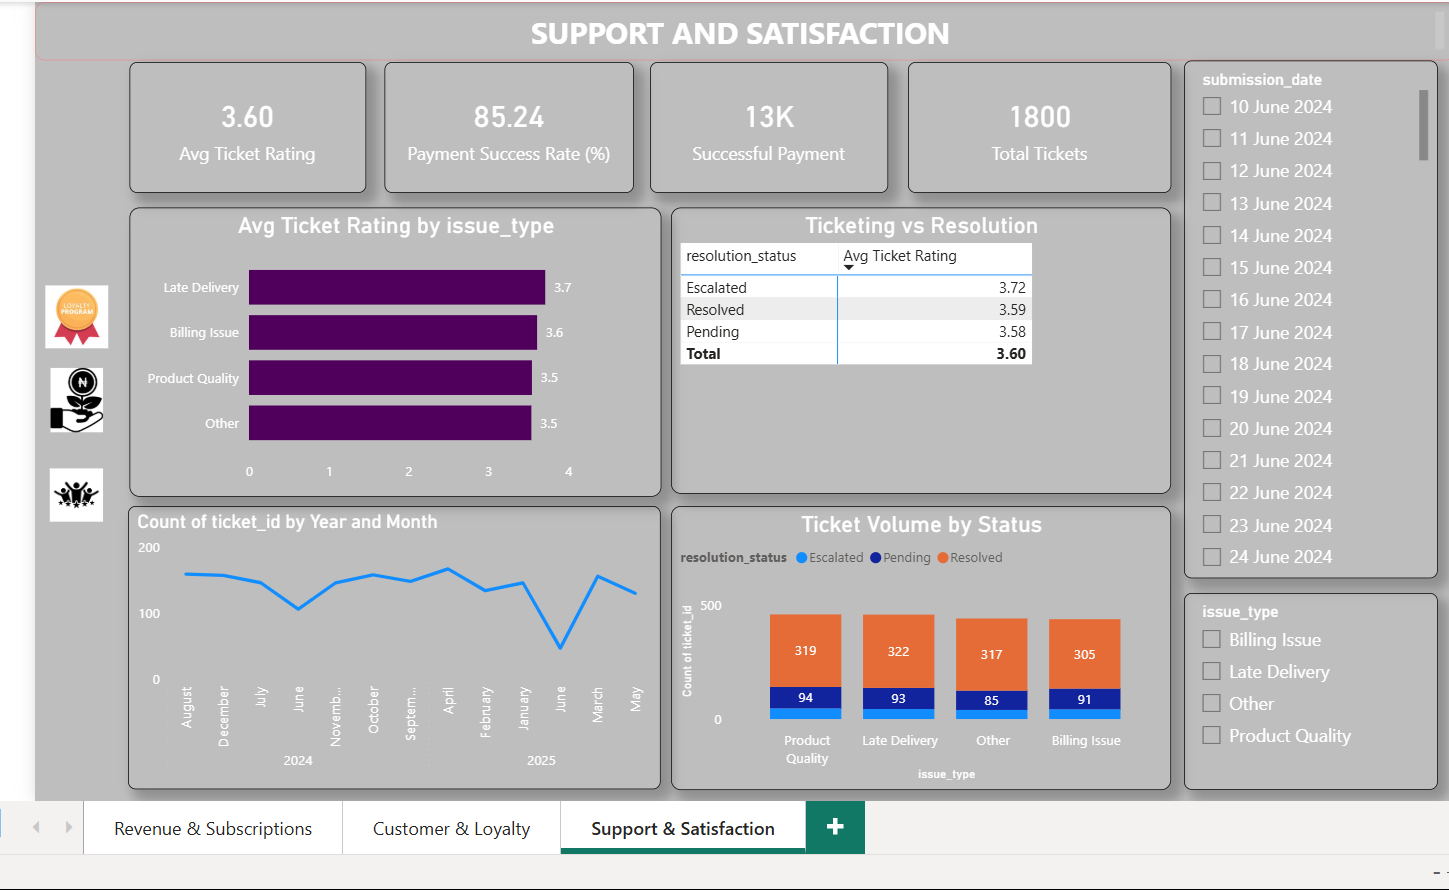

What the dashboard file says about the page in this screenshot:
{"tool":"powerbi","page":{"name":"Support & Satisfaction","canvas":[1280,720],"ordinal":2},"visuals":[{"type":"textbox","box":[0,0,1279.5,53],"z":0},{"type":"pivotTable","title":"Ticketing vs Resolution ","fields":{"Rows":["public support_tickets.resolution_status"],"Values":["public support_tickets.Avg Ticket Rating"]},"box":[573.1,185.8,450.7,257.8],"z":1000},{"type":"card","fields":{"Values":["public support_tickets.Avg Ticket Rating"]},"box":[85,54.7,213.1,118.1],"z":2000},{"type":"card","fields":{"Values":["public support_tickets.Payment Success Rate (%)"]},"box":[315.4,54.7,224.6,118.1],"z":3000},{"type":"card","fields":{"Values":["public support_tickets.Successful Payment"]},"box":[554.4,54.7,214.6,118.1],"z":4000},{"type":"card","fields":{"Values":["public support_tickets.Total Tickets"]},"box":[786.2,54.7,237.6,118.1],"z":5000},{"type":"clusteredBarChart","fields":{"Category":["public support_tickets.issue_type"],"Y":["public support_tickets.Avg Ticket Rating"]},"box":[85,185.8,479.5,260.6],"z":6000},{"type":"columnChart","title":"Ticket Volume by Status","fields":{"Category":["public support_tickets.issue_type"],"Y":["CountNonNull(public support_tickets.ticket_id)"],"Series":["public support_tickets.resolution_status"]},"box":[573.1,453.6,450.7,256.3],"z":7000},{"type":"lineChart","fields":{"Y":["CountNonNull(public support_tickets.ticket_id)"],"Category":["public support_tickets.Year","public support_tickets.customer_id Hierarchy.Month"]},"box":[83.8,454.2,479.9,255.5],"z":8000},{"type":"slicer","fields":{"Values":["public support_tickets.submission_date"]},"box":[1035.4,53.3,229,466.6],"z":9000},{"type":"slicer","fields":{"Values":["public support_tickets.issue_type"]},"box":[1035.4,532.8,229,177.1],"z":10000},{"type":"image","box":[0,250,75,66.7],"z":11000},{"type":"image","box":[0,325,75,68.3],"z":12000},{"type":"image","box":[0,415,75,58.3],"z":13000}]}

Visuals, with their boxes in screenshot pixels (x1, y1, x2, y2):
textbox: box(26, 0, 1448, 59)
"Ticketing vs Resolution " pivotTable: box(666, 207, 1169, 495)
card - public support_tickets.Avg Ticket Rating: box(121, 61, 359, 193)
card - public support_tickets.Payment Success Rate (%): box(379, 61, 629, 193)
card - public support_tickets.Successful Payment: box(645, 61, 885, 193)
card - public support_tickets.Total Tickets: box(904, 61, 1169, 193)
clusteredBarChart - public support_tickets.issue_type x public support_tickets.Avg Ticket Rating: box(121, 207, 657, 498)
"Ticket Volume by Status" columnChart: box(666, 506, 1169, 793)
lineChart - CountNonNull(public support_tickets.ticket_id) x public support_tickets.Year: box(120, 507, 656, 792)
slicer - public support_tickets.submission_date: box(1182, 60, 1438, 580)
slicer - public support_tickets.issue_type: box(1182, 595, 1438, 793)
image: box(26, 279, 110, 354)
image: box(26, 363, 110, 439)
image: box(26, 463, 110, 528)
